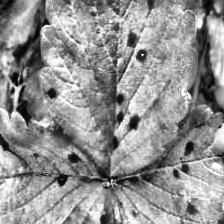Leaf Spot: (38, 0, 198, 179), (110, 90, 224, 224), (0, 108, 121, 224), (0, 0, 55, 52)
